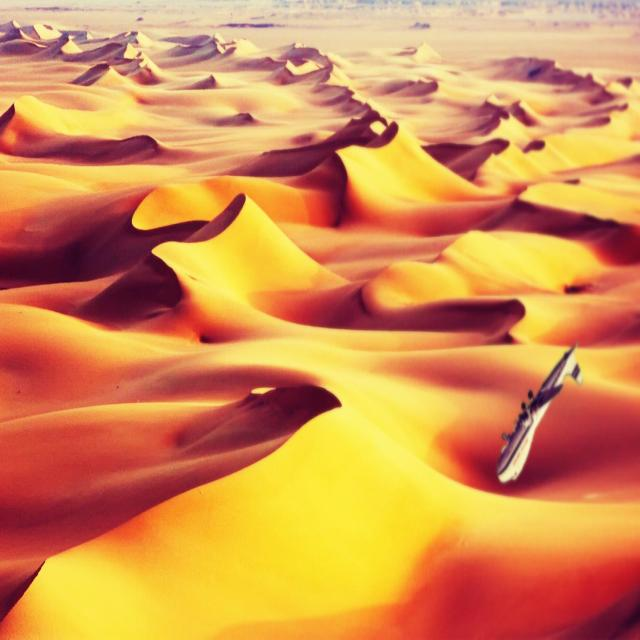airplane: (496, 341, 582, 484)
